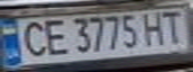3: (69, 15, 90, 54)
5: (118, 11, 145, 50)
7: (87, 14, 109, 52), (103, 12, 124, 51)
C: (15, 19, 51, 58)
E: (39, 16, 69, 56)
H: (139, 10, 169, 46)
T: (157, 8, 190, 45)
